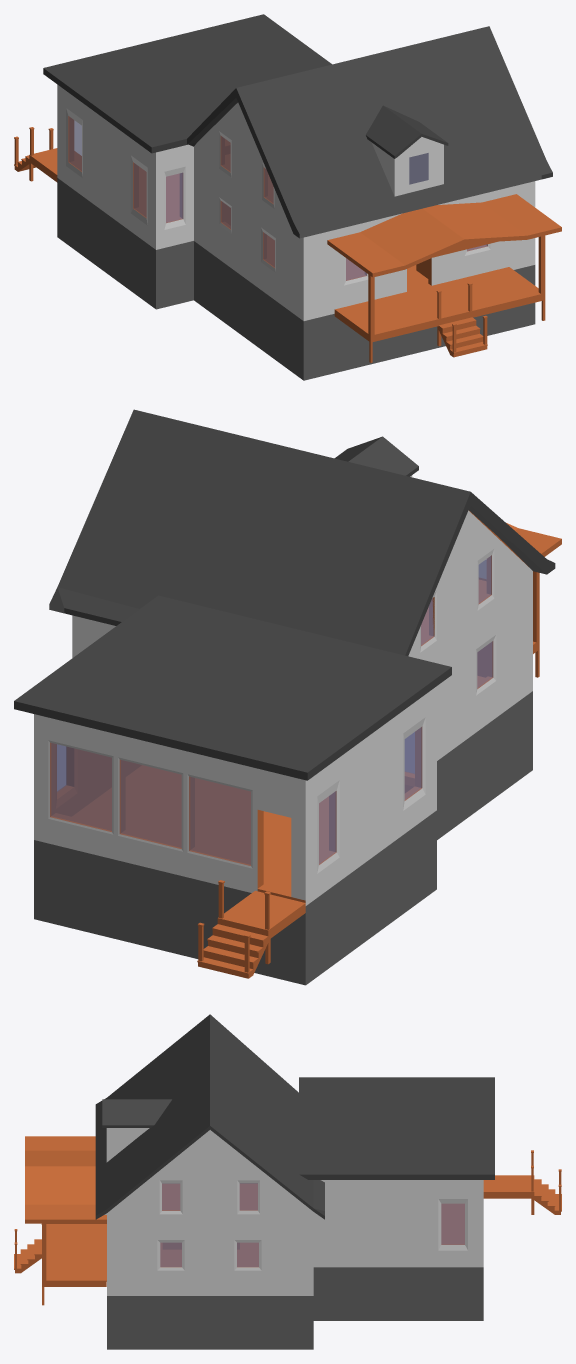
File: masionchezlinda3.fbx
3 renders of one model, top to bottom at view 1: azimuth 30°, elevation 25°; view 2: azimuth 150°, elevation 25°; view 3: azimuth 270°, elevation 25°, orthographic. The views are drawn at different scales.
Visible parts, largest first — view 1: Maison; view 2: Maison; view 3: Maison.
Part boxes in pixels (box(x1,y1,x2,y2)): Maison: box(14, 14, 561, 380); Maison: box(14, 409, 561, 985); Maison: box(14, 1014, 561, 1349).
Size of the model in its own units: 3549 by 2982 by 6468.
